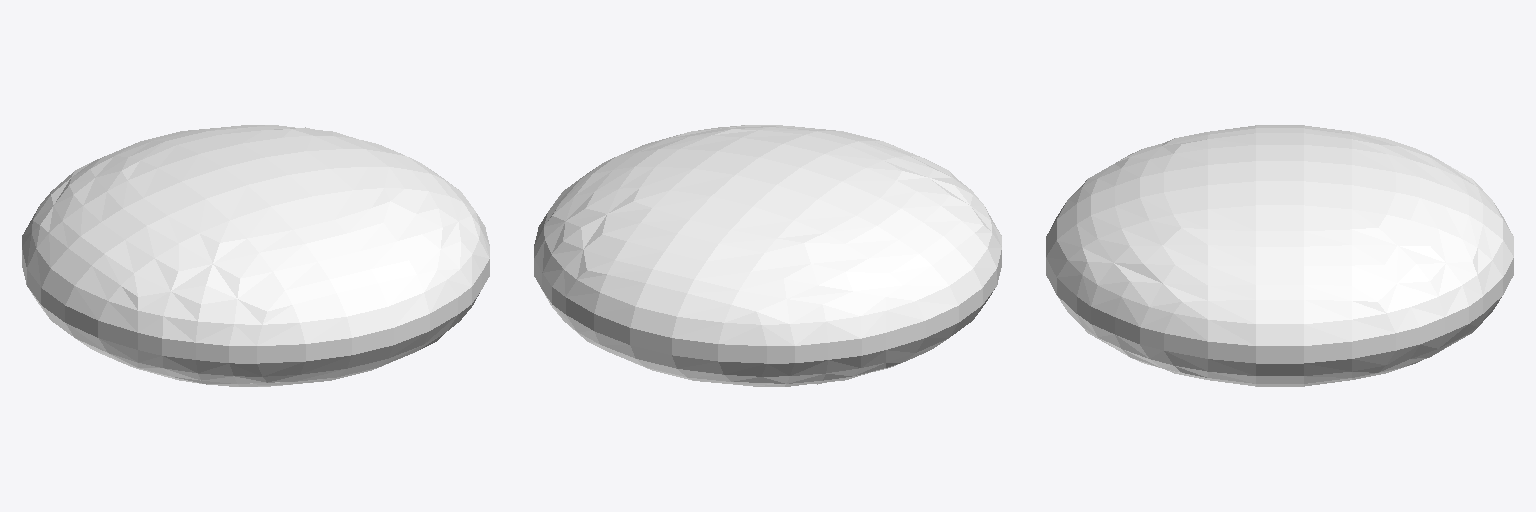
The model's file is candy.obj.
The picture shows the model from 3 angles: view 1: azimuth 30°, elevation 25°; view 2: azimuth 150°, elevation 25°; view 3: azimuth 270°, elevation 25°; orthographic projection.
Parts seen in each view (by area): view 1: Sphere; view 2: Sphere; view 3: Sphere.
Boxes of the visible parts, <box> form: Sphere: <box>22,125,489,386</box>; Sphere: <box>534,125,1001,386</box>; Sphere: <box>1046,125,1513,386</box>.
Size of the model in its own units: 1.96 by 0.7825 by 1.96.